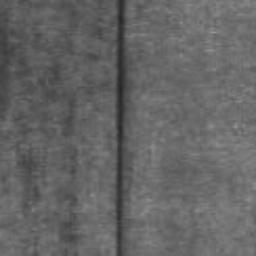Scratches: (116, 0, 126, 256)
